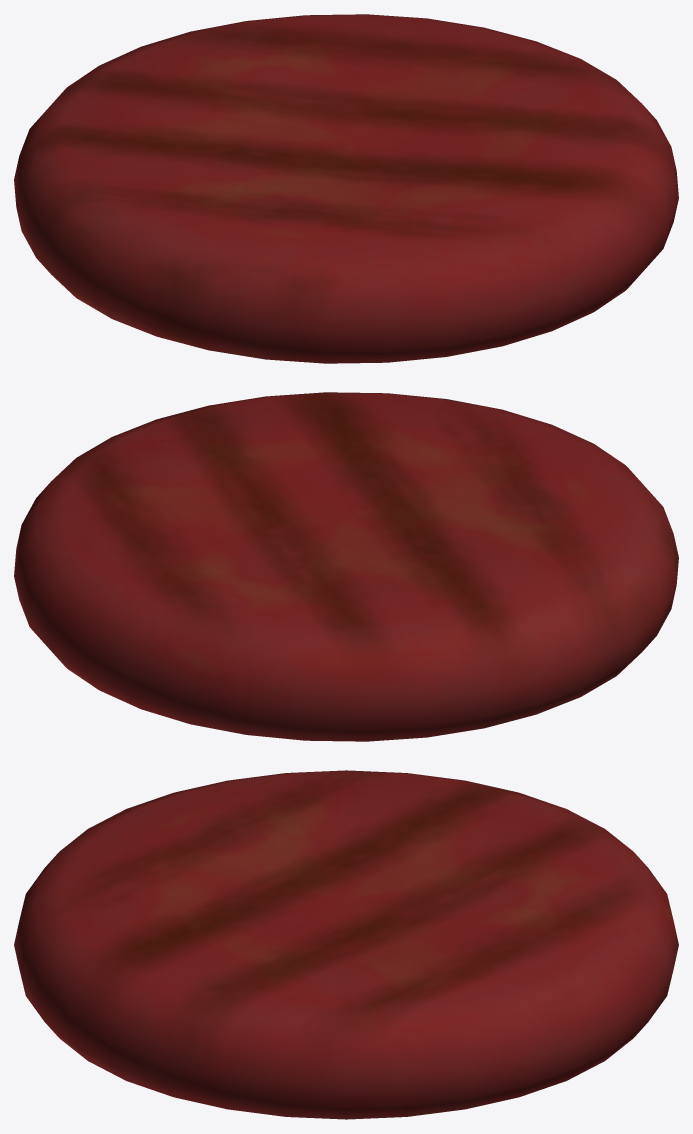
File: patty.glb
3 renders of one model, top to bottom at view 1: azimuth 30°, elevation 25°; view 2: azimuth 150°, elevation 25°; view 3: azimuth 270°, elevation 25°, orthographic.
Parts seen in each view (by area): view 1: Patty_low.001; view 2: Patty_low.001; view 3: Patty_low.001.
Boxes of the visible parts, x1=… form: Patty_low.001: x1=14, y1=14, x2=678, y2=363; Patty_low.001: x1=14, y1=392, x2=678, y2=741; Patty_low.001: x1=14, y1=770, x2=678, y2=1119.
Size of the model in its own units: 0.2167 by 0.0381 by 0.2167.
Materials: 1 (1 with a texture image).
